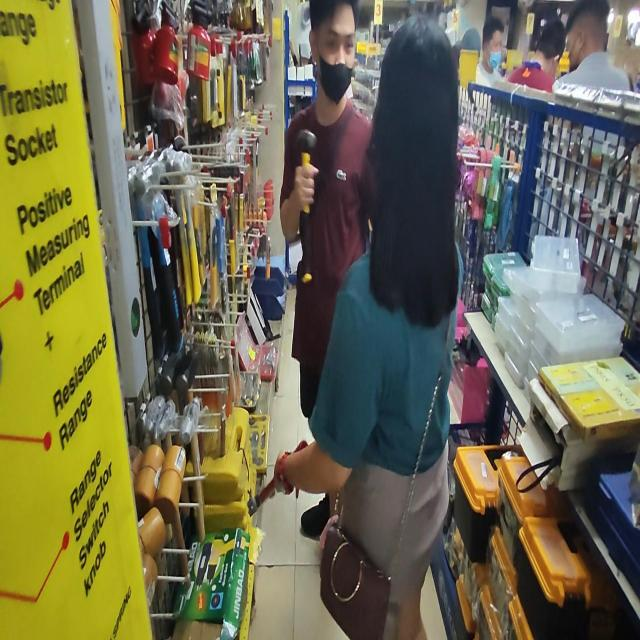hammer: (247, 439, 309, 524), (296, 129, 316, 283)
